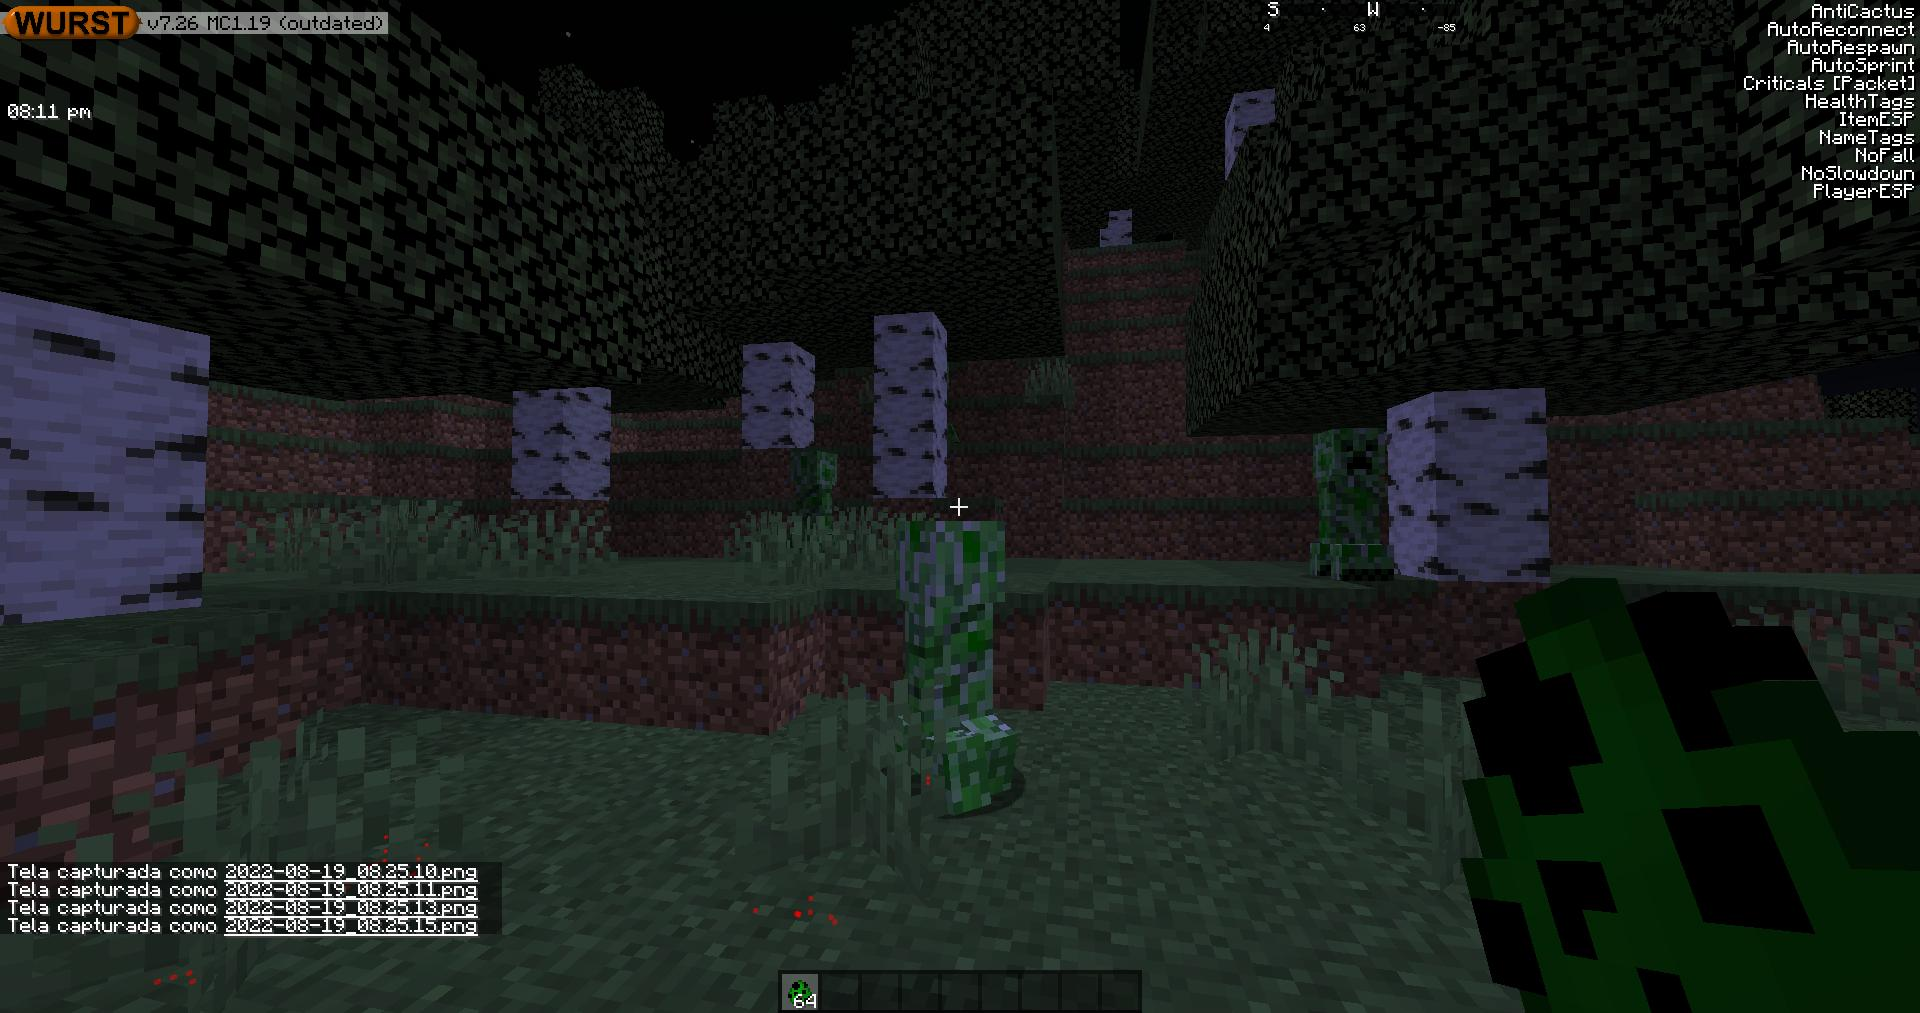creeper: (893, 510, 1003, 806), (1310, 423, 1384, 586), (792, 444, 834, 526)
